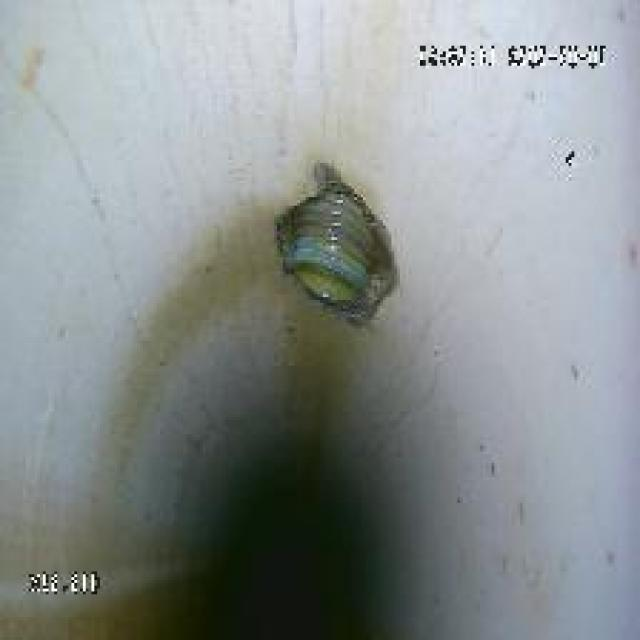ferrule: (266, 180, 397, 317)
